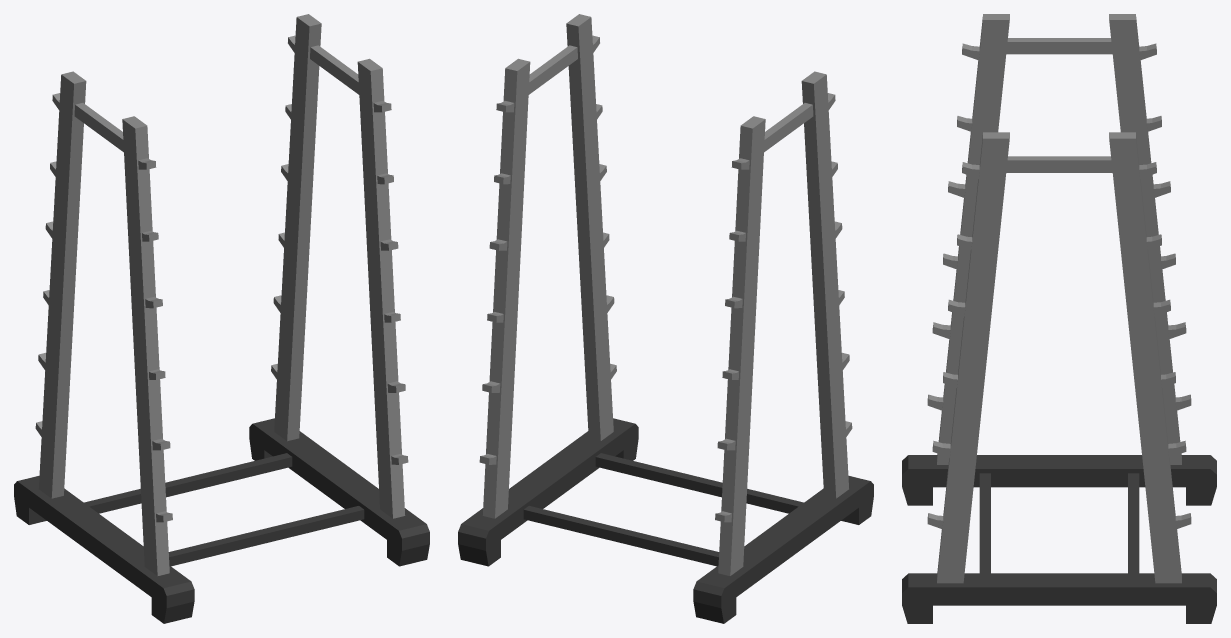
The model's file is Barbell_Stand_1.fbx.
3 views of the same model, side by side, from view 1: azimuth 30°, elevation 25°; view 2: azimuth 150°, elevation 25°; view 3: azimuth 270°, elevation 25° (orthographic). The views are drawn at different scales.
Visible parts, largest first — view 1: Barbell_Stand_1; view 2: Barbell_Stand_1; view 3: Barbell_Stand_1.
Boxes of the visible parts, left/top/right/bottom form: Barbell_Stand_1: left=14, top=14, right=429, bottom=623; Barbell_Stand_1: left=458, top=14, right=873, bottom=623; Barbell_Stand_1: left=902, top=14, right=1216, bottom=623.
Bounding box in the file's own units: 124 × 211 × 125.
